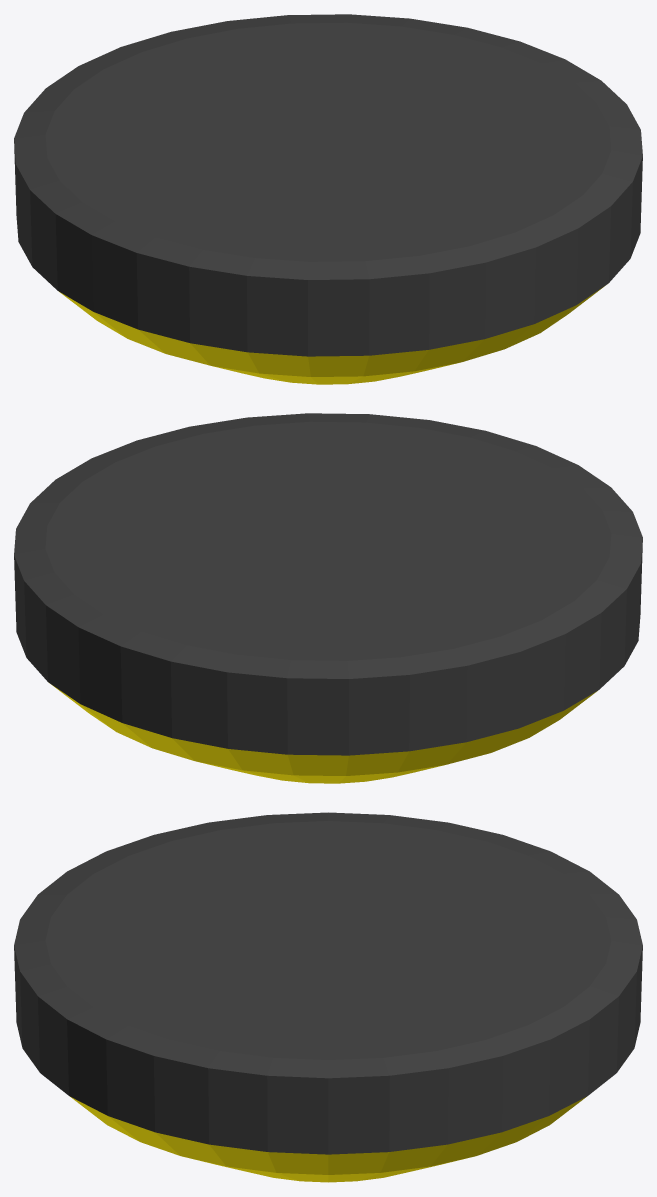
File: Wohnzimmerlampe blend.fbx
3 views of the same model, one above another, from view 1: azimuth 30°, elevation 25°; view 2: azimuth 150°, elevation 25°; view 3: azimuth 270°, elevation 25° (orthographic).
Visible parts, largest first — view 1: Cylinder; view 2: Cylinder; view 3: Cylinder.
Boxes of the visible parts, box(x1,y1,x2,y2) form: Cylinder: box(14, 14, 642, 384); Cylinder: box(14, 413, 642, 783); Cylinder: box(14, 812, 642, 1182).
Size of the model in its own units: 90.01 by 31.09 by 90.01.
